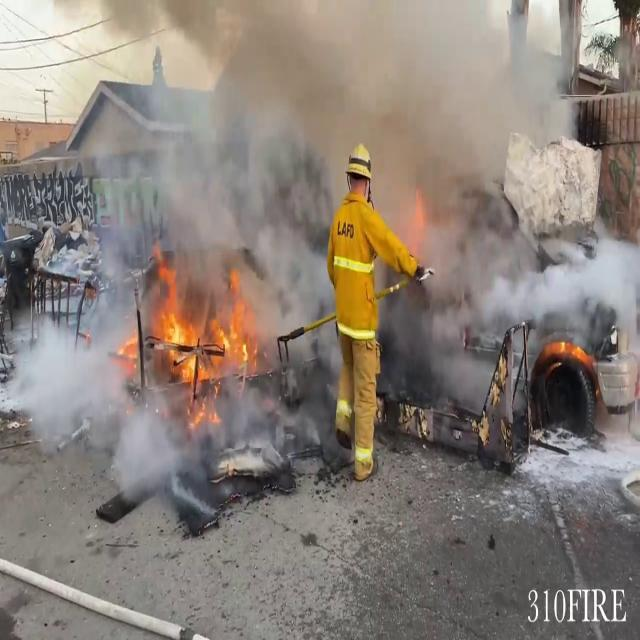Fire: (148, 238, 261, 414)
Smoke: (88, 0, 580, 330)
